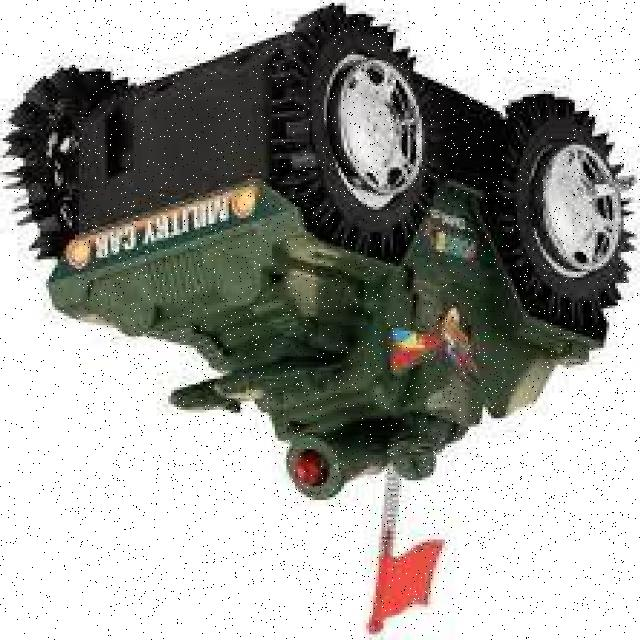MIL_MBT: (76, 18, 629, 615)
